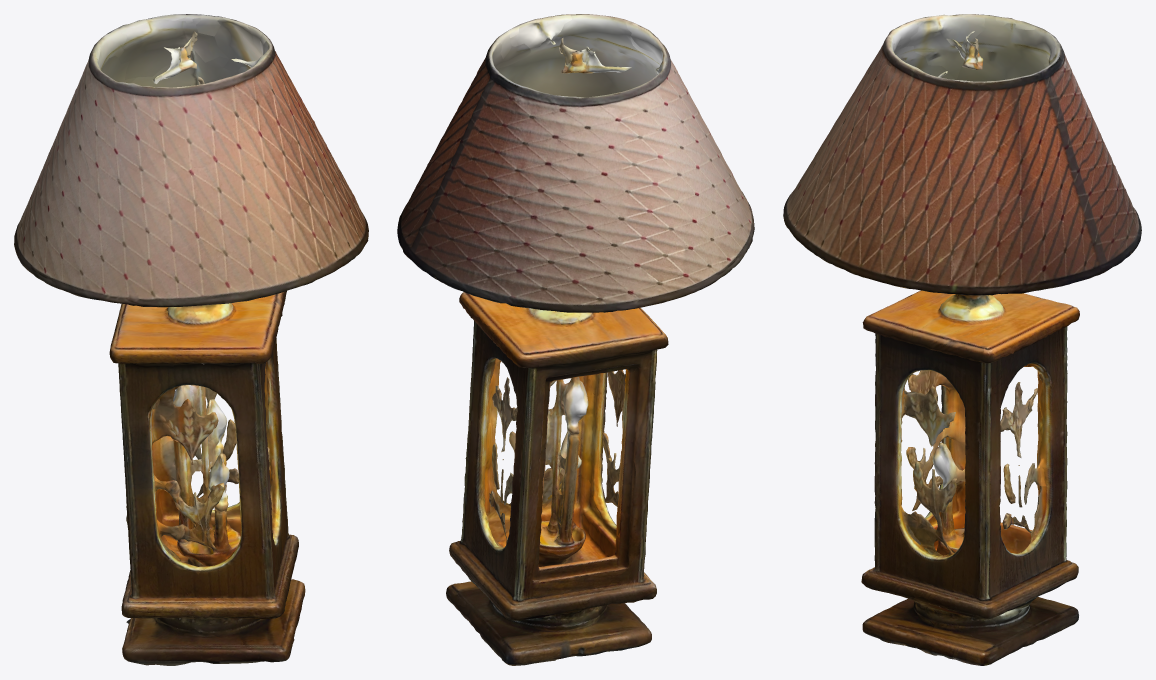
Rendered from Dianne's Lamp.obj.
3 views of the same model, side by side, from view 1: azimuth 30°, elevation 25°; view 2: azimuth 150°, elevation 25°; view 3: azimuth 270°, elevation 25° (orthographic). The views are drawn at different scales.
Parts seen in each view (by area): view 1: Object; view 2: Object; view 3: Object.
Part boxes in pixels (bbox=[...]): Object: bbox=[14, 14, 368, 665]; Object: bbox=[397, 14, 754, 665]; Object: bbox=[783, 14, 1141, 665].
Bounding box in the file's own units: 0.6956 × 1.31 × 0.7227.
Materials: 1 (1 with a texture image).
